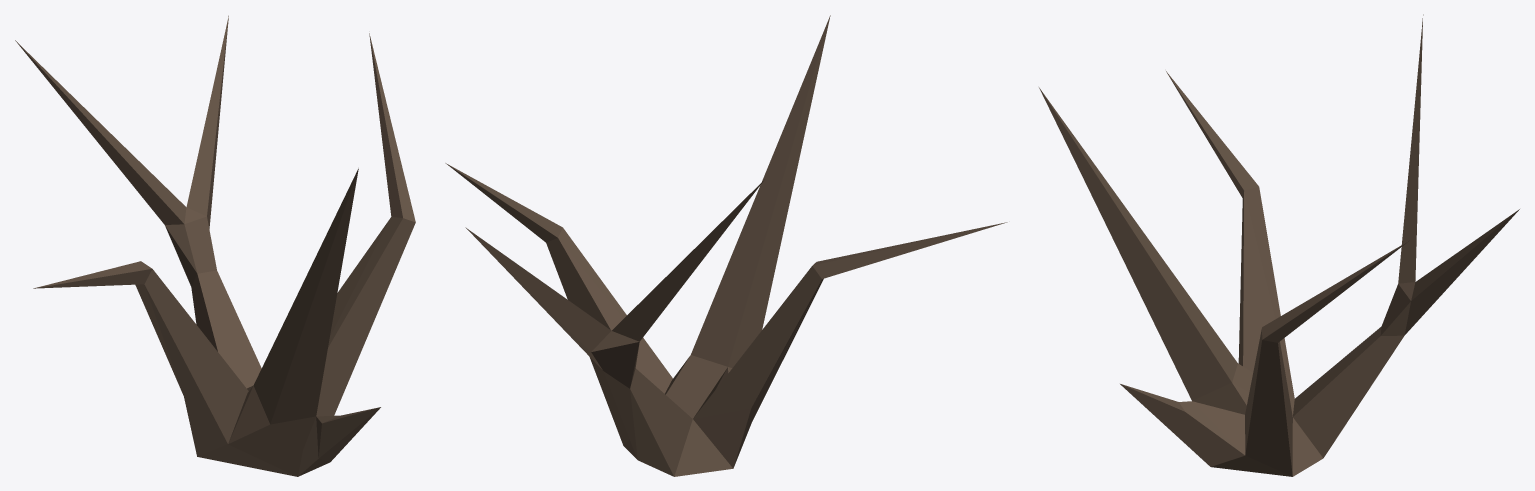
File: shrub1.glb
The picture shows the model from 3 angles, left to right: view 1: azimuth 30°, elevation 25°; view 2: azimuth 150°, elevation 25°; view 3: azimuth 270°, elevation 25°; orthographic projection. The views are drawn at different scales.
Parts seen in each view (by area): view 1: shrub_1; view 2: shrub_1; view 3: shrub_1.
Part boxes in pixels (x1,y1,x2,y2): shrub_1: (15,15,415,476); shrub_1: (445,15,1007,476); shrub_1: (1039,14,1519,476).
Size of the model in its own units: 0.7367 by 0.5853 by 0.7062.
